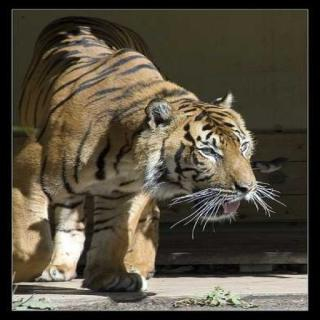Tiger: (28, 9, 279, 302)
